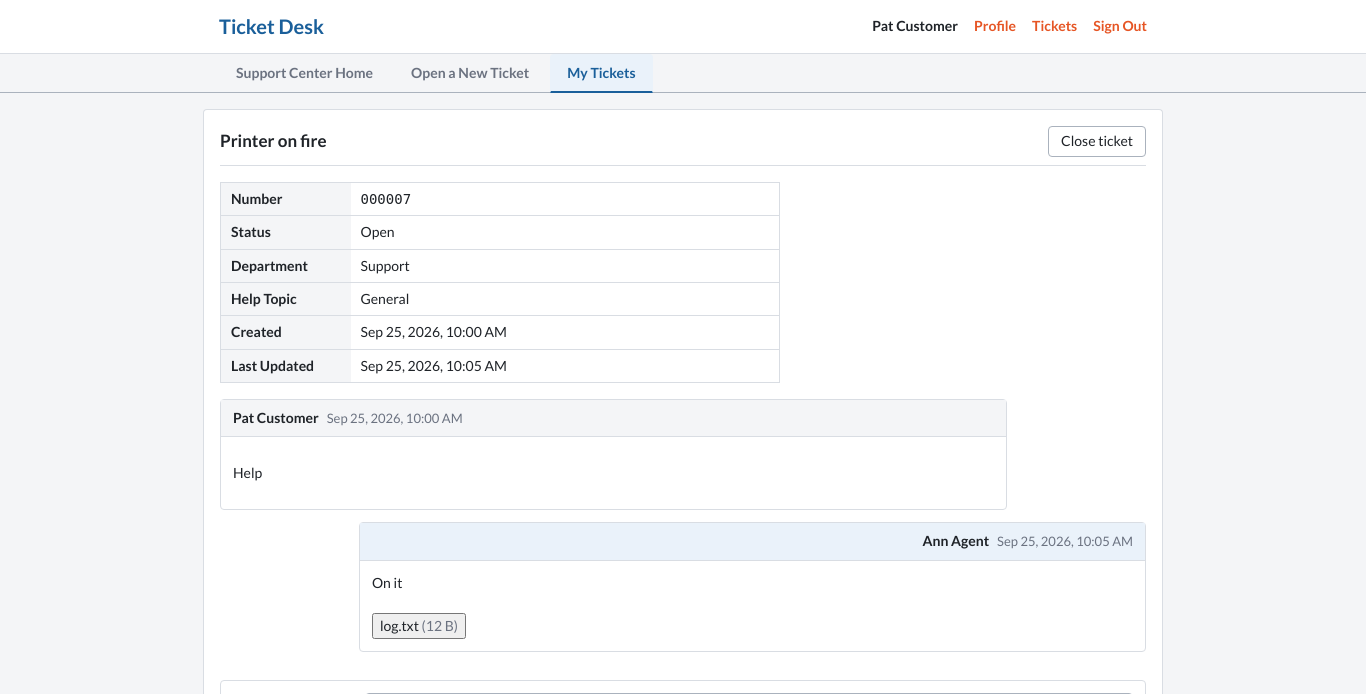
Test case: closes the ticket only after a second, confirming click
Click the button "Close ticket" at coordinates (1097, 142), box [1048, 126, 1146, 157]
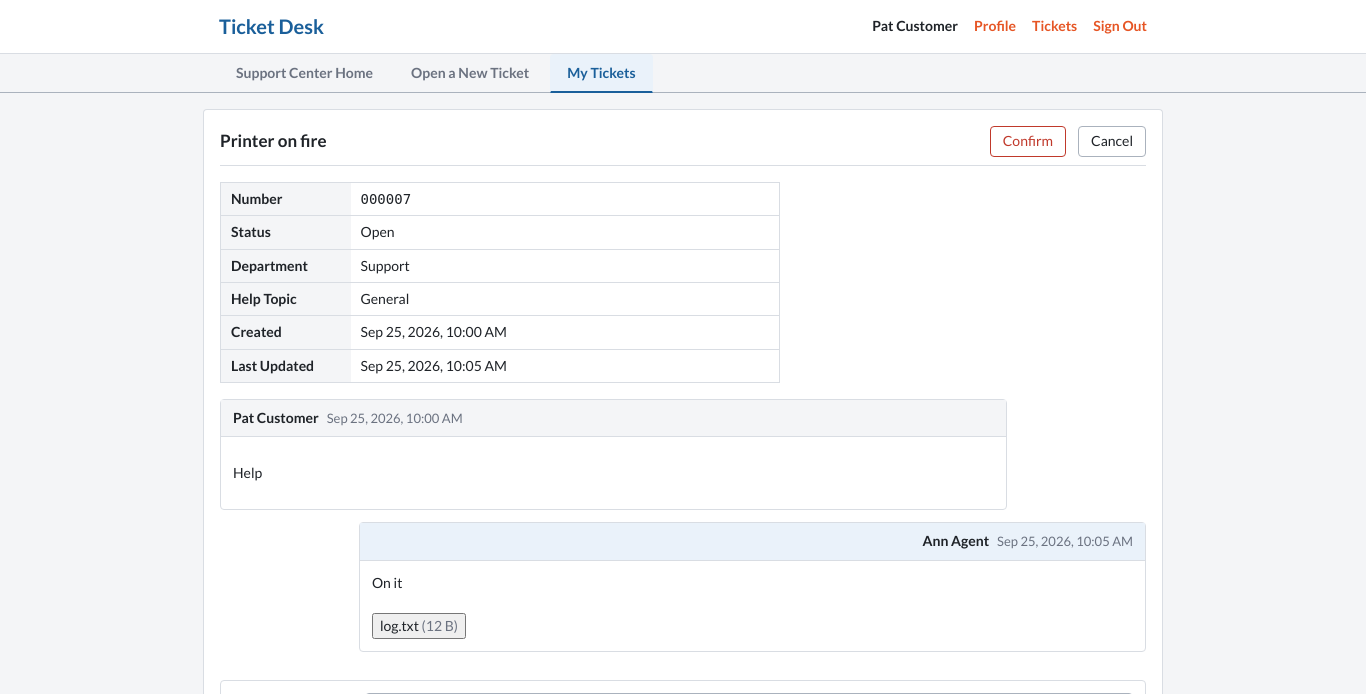
Click the button "Cancel" at coordinates (1112, 142), box [1078, 126, 1146, 157]
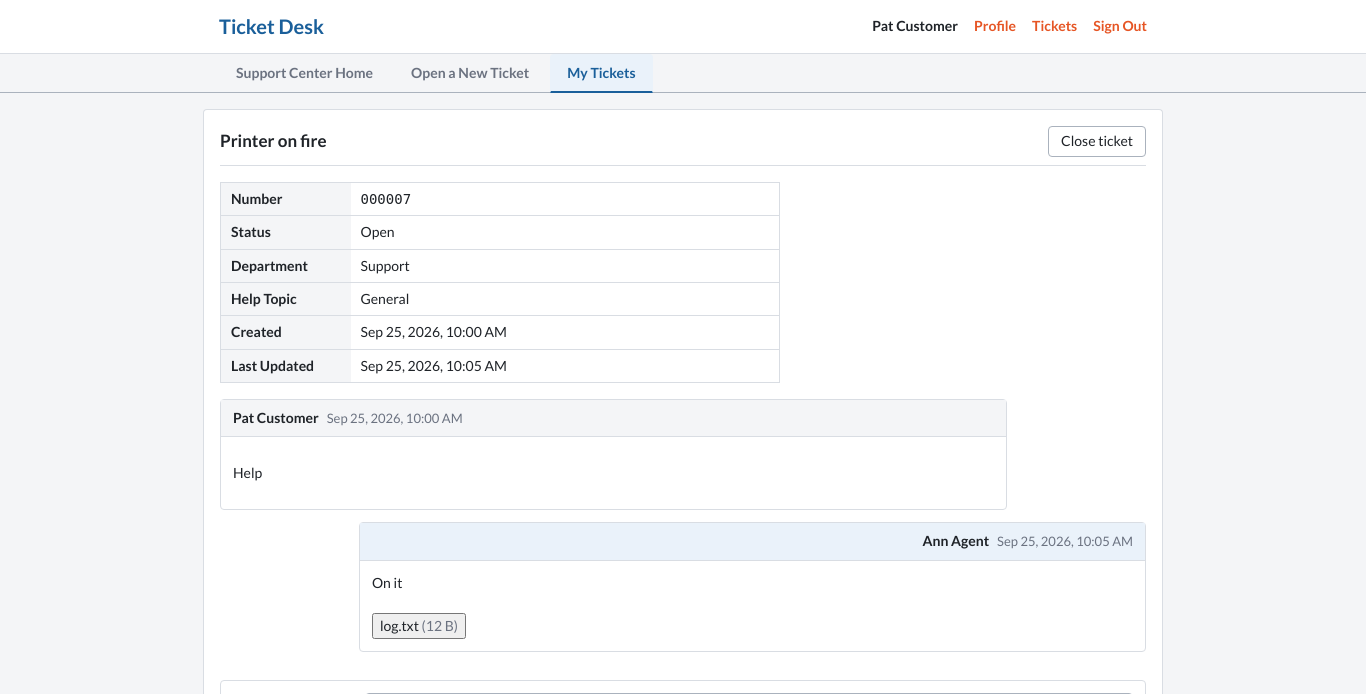
Now the button "Confirm" is gone
Click the button "Close ticket" at coordinates (1097, 142), box [1048, 126, 1146, 157]
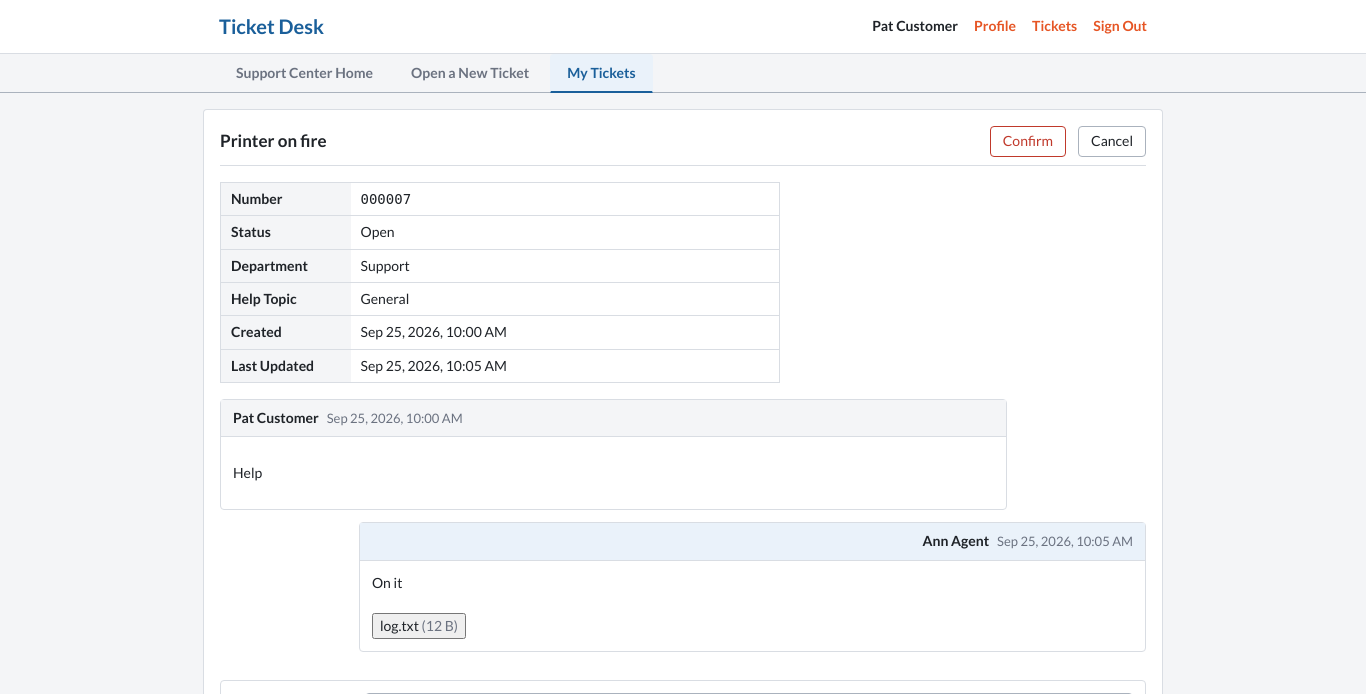
Click the button "Confirm" at coordinates (1028, 142), box [990, 126, 1066, 157]
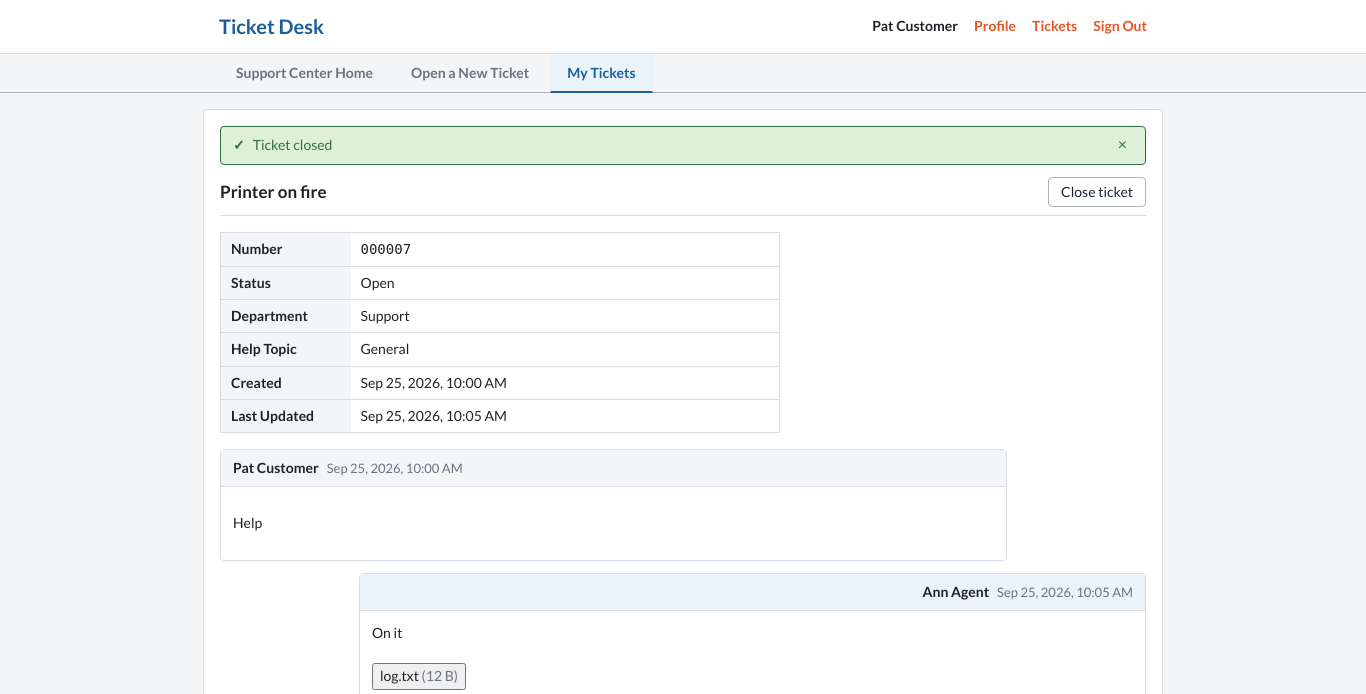
Now the text "Ticket closed" is shown, box [253, 136, 332, 153]
